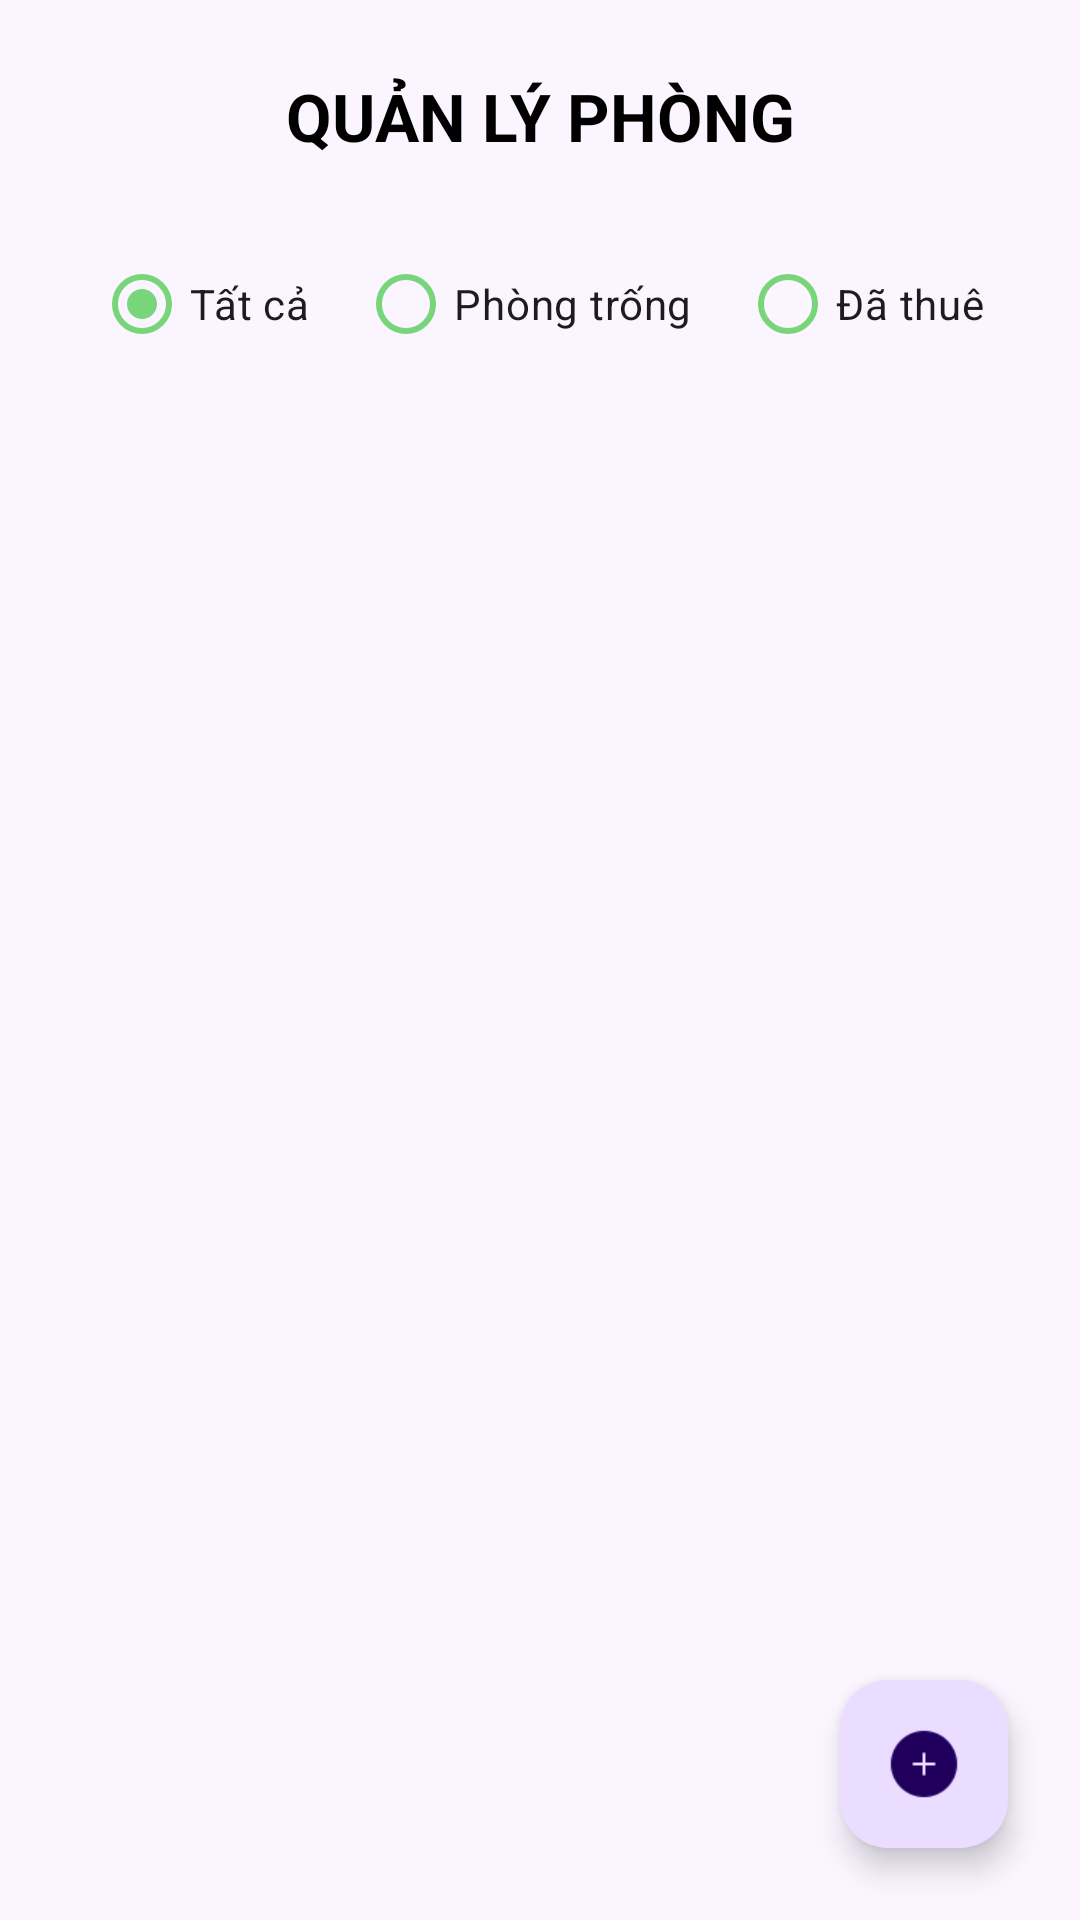

Locate icon controls on the screen. Image size 1080*1920, boxes as {"left": x1, "top": y1, "right": x2, "bottom": y2}.
Thêm phòng: {"left": 890, "top": 1730, "right": 958, "bottom": 1798}
